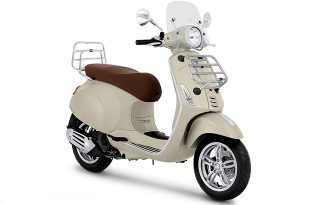motorcycle: (64, 25, 249, 201)
